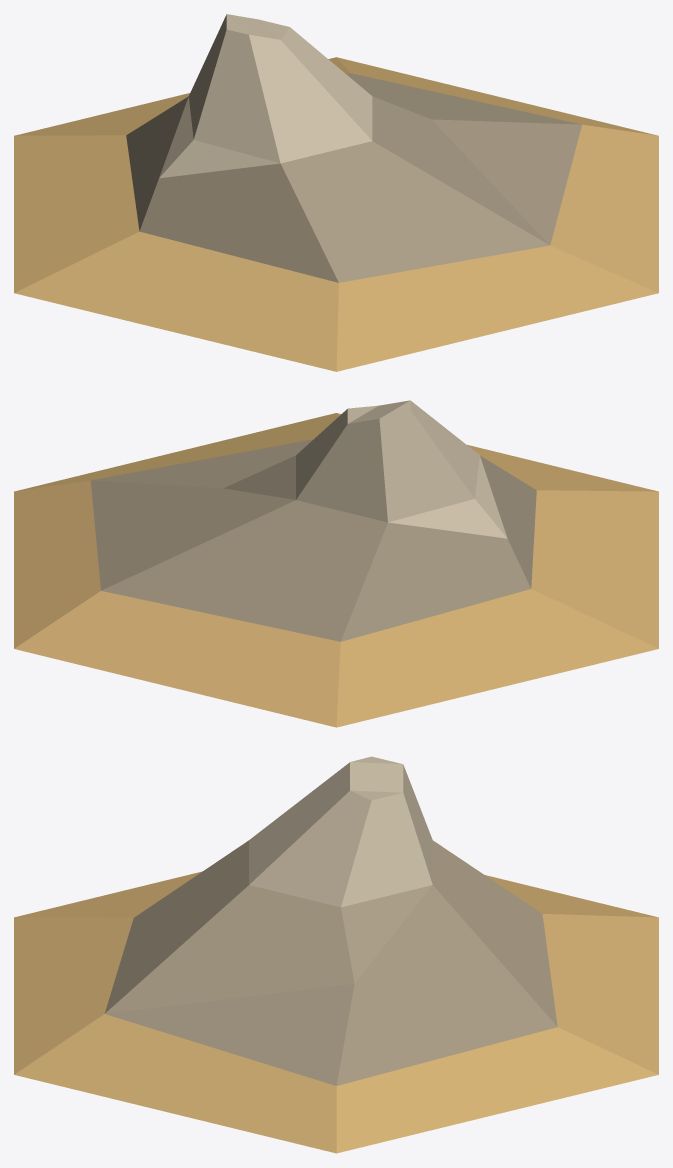
File: TB_D_Env_MtB_B.FBX
3 views of the same model, one above another, from view 1: azimuth 30°, elevation 25°; view 2: azimuth 150°, elevation 25°; view 3: azimuth 270°, elevation 25° (orthographic).
Parts seen in each view (by area): view 1: TB_D_Env_MtB_B; view 2: TB_D_Env_MtB_B; view 3: TB_D_Env_MtB_B.
Boxes of the visible parts, <box> form: TB_D_Env_MtB_B: <box>14,14,658,371</box>; TB_D_Env_MtB_B: <box>14,400,658,727</box>; TB_D_Env_MtB_B: <box>14,756,658,1153</box>.
Bounding box in the file's own units: 16.37 × 4.72 × 14.18.
